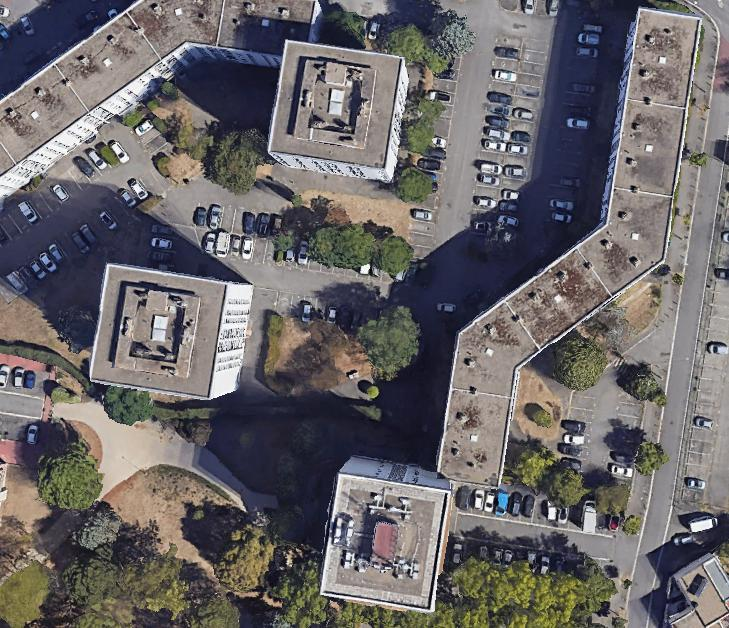immeuble: (0, 0, 210, 203), (459, 211, 662, 383), (591, 5, 705, 262), (313, 450, 460, 617), (87, 264, 254, 403), (263, 39, 412, 185), (438, 332, 520, 488), (171, 0, 327, 69)
